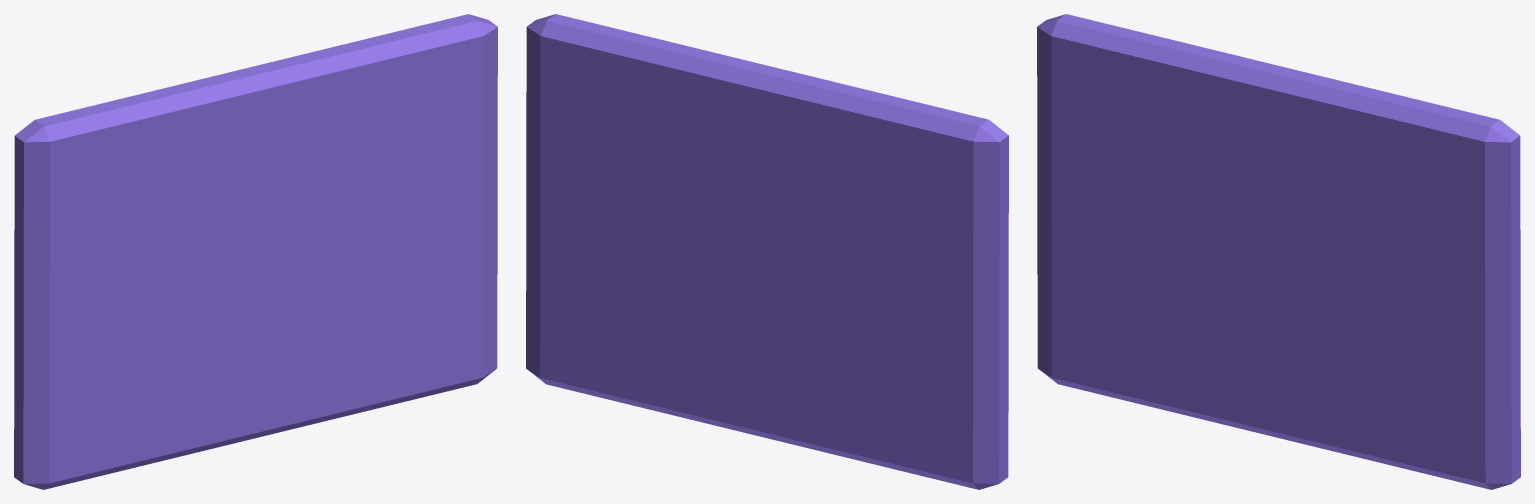
The model's file is platform06.fbx.
3 views of the same model, side by side, from view 1: azimuth 30°, elevation 25°; view 2: azimuth 150°, elevation 25°; view 3: azimuth 330°, elevation 25° (orthographic).
Visible parts, largest first — view 1: platform06; view 2: platform06; view 3: platform06.
Part boxes in pixels (x1=…): platform06: x1=14, y1=14, x2=497, y2=489; platform06: x1=526, y1=14, x2=1008, y2=489; platform06: x1=1037, y1=14, x2=1520, y2=489.
Bounding box in the file's own units: 131 × 95.79 × 10.43.
